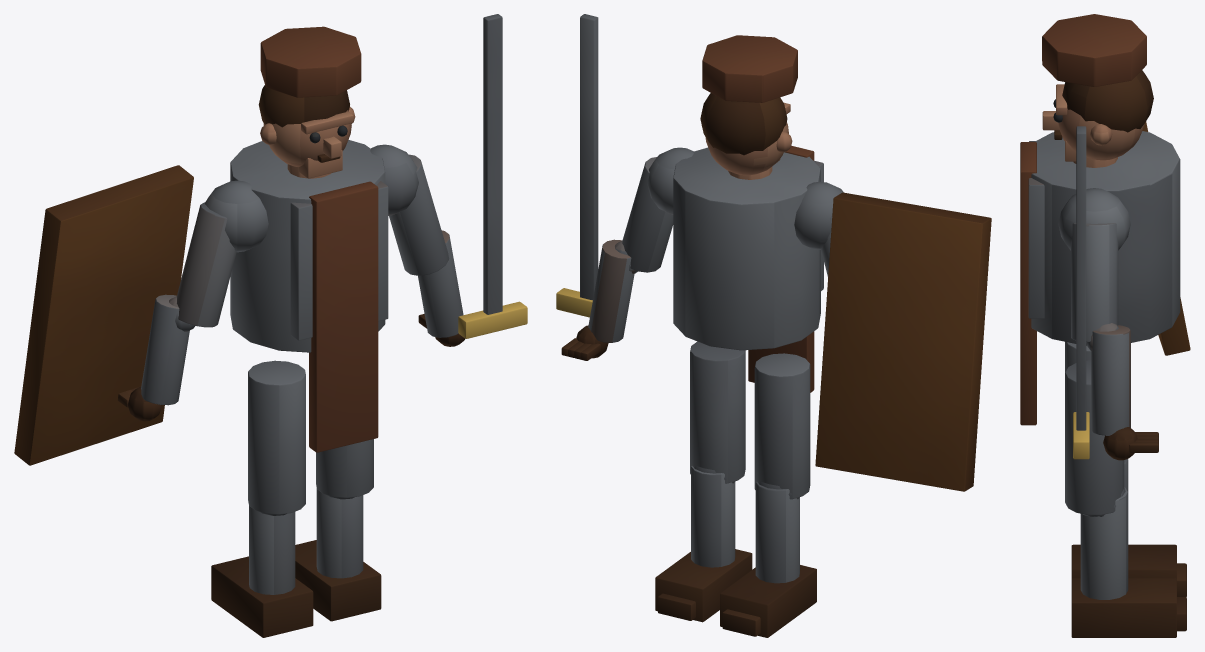
Rendered from unit_university_arms_dean.fbx.
The picture shows the model from 3 angles, left to right: view 1: azimuth 30°, elevation 25°; view 2: azimuth 150°, elevation 25°; view 3: azimuth 270°, elevation 25°; orthographic projection. The views are drawn at different scales.
Visible parts, largest first — view 1: unit_university_arms_dean; view 2: unit_university_arms_dean; view 3: unit_university_arms_dean.
Boxes of the visible parts, <box> form: unit_university_arms_dean: <box>14,14,527,637</box>; unit_university_arms_dean: <box>556,14,991,637</box>; unit_university_arms_dean: <box>1020,14,1190,637</box>.
Size of the model in its own units: 1.65 by 1.92 by 0.5162.
